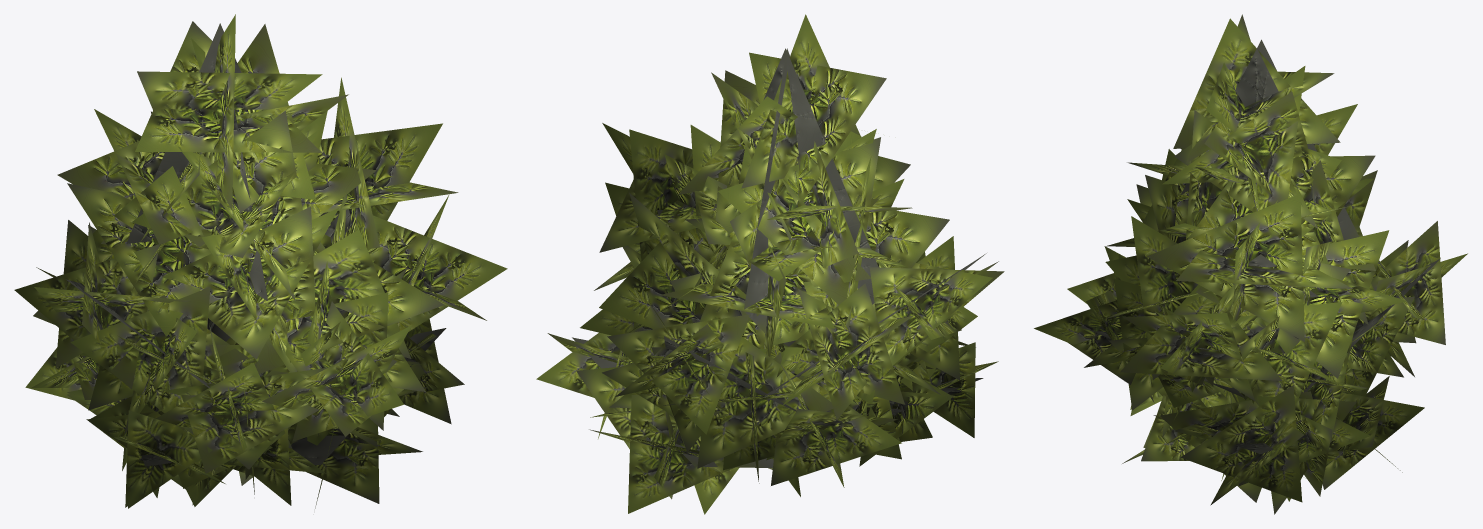
The model's file is BushMed05.FBX.
3 views of the same model, side by side, from view 1: azimuth 30°, elevation 25°; view 2: azimuth 150°, elevation 25°; view 3: azimuth 270°, elevation 25° (orthographic). The views are drawn at different scales.
Parts seen in each view (by area): view 1: Bush_LOD0; view 2: Bush_LOD0; view 3: Bush_LOD0.
Boxes of the visible parts, <box> form: Bush_LOD0: <box>14,14,507,508</box>; Bush_LOD0: <box>536,14,1004,514</box>; Bush_LOD0: <box>1034,14,1467,514</box>.
Size of what is drawn, in the model's own units: 353 by 383 by 345.
